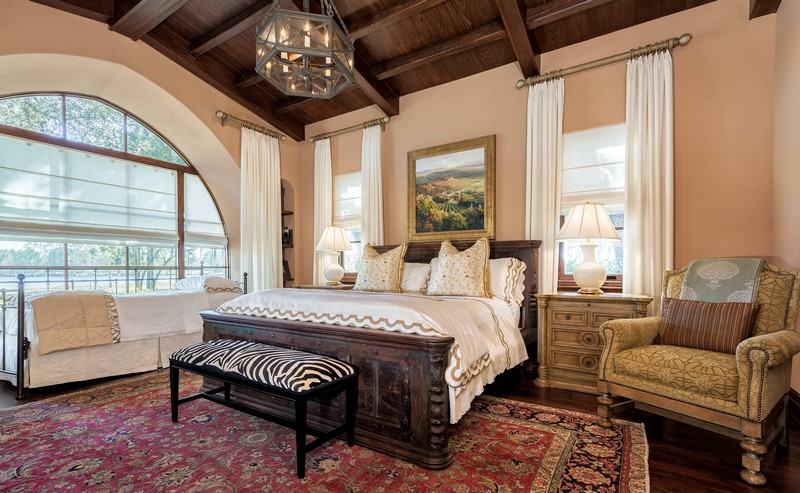bed: (201, 226, 543, 473), (4, 266, 254, 400)
lamp: (556, 193, 620, 298), (311, 223, 355, 294)
sofa: (600, 251, 797, 489)
stool: (532, 290, 654, 403)
